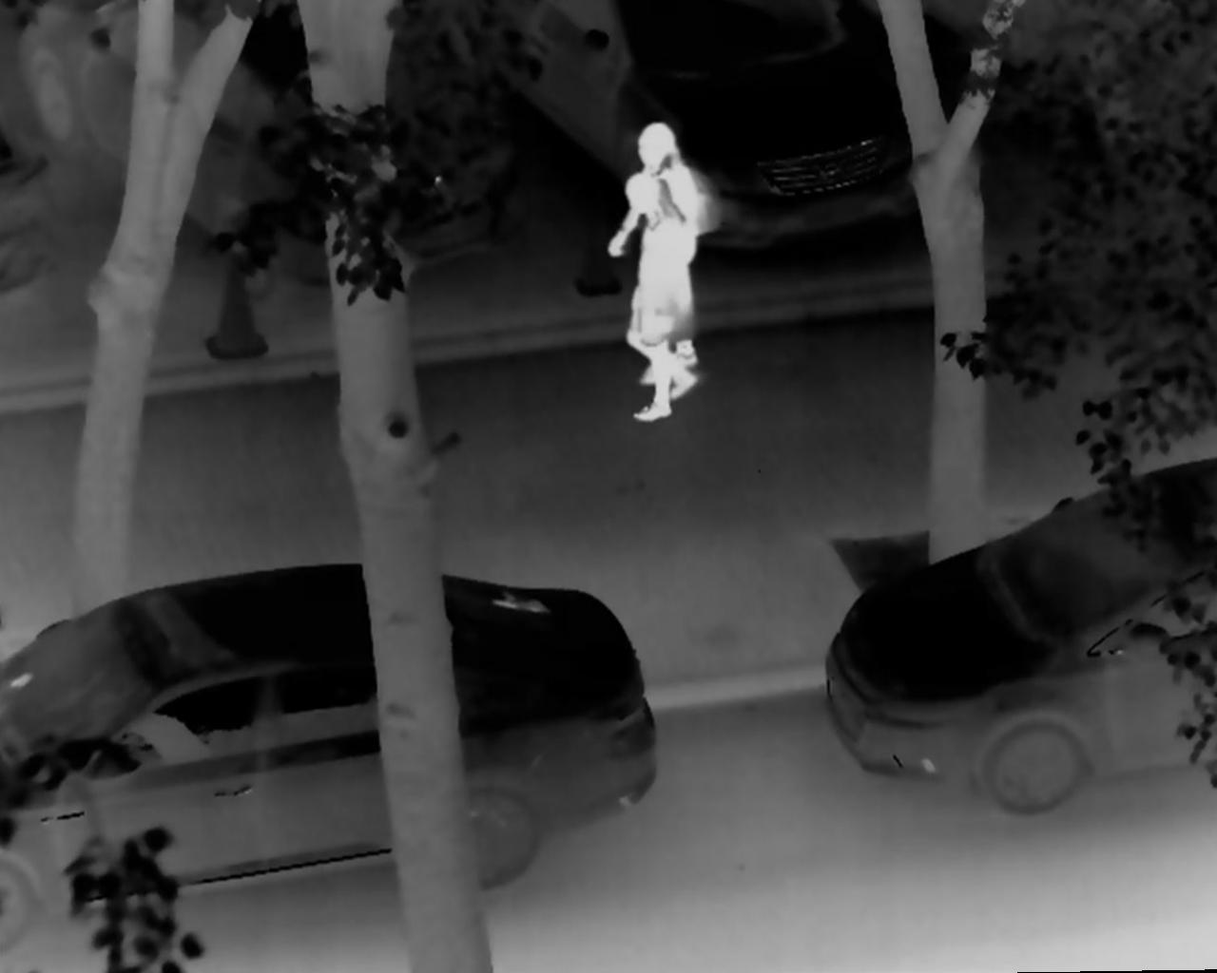person: (609, 112, 714, 386), (610, 172, 709, 421)
